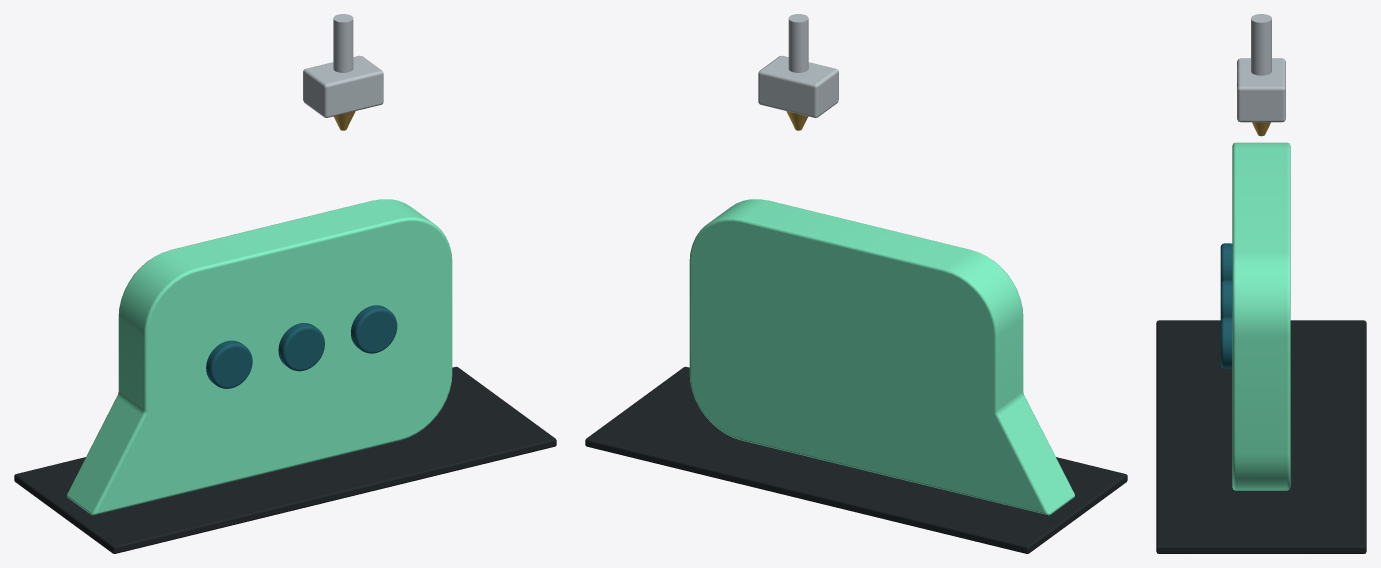
The model's file is contact.glb.
The picture shows the model from 3 angles, left to right: view 1: azimuth 30°, elevation 25°; view 2: azimuth 150°, elevation 25°; view 3: azimuth 270°, elevation 25°; orthographic projection. The views are drawn at different scales.
Parts seen in each view (by area): view 1: Bubble, Bed, Nozzle_block, Dot0, Dot2, Dot1, Nozzle_tube; view 2: Bubble, Bed, Nozzle_block, Nozzle_tube; view 3: Bed, Bubble, Nozzle_block, Nozzle_tube, Dot2, Dot1, Dot0.
Boxes of the visible parts, left/top/right/bottom form: Bubble: left=67, top=199, right=452, bottom=515; Bed: left=14, top=366, right=556, bottom=553; Nozzle_block: left=303, top=55, right=383, bottom=117; Dot0: left=206, top=340, right=252, bottom=388; Dot2: left=351, top=305, right=397, bottom=353; Dot1: left=278, top=323, right=324, bottom=371; Nozzle_tube: left=333, top=14, right=353, bottom=72; Bubble: left=689, top=199, right=1074, bottom=515; Bed: left=585, top=366, right=1127, bottom=553; Nozzle_block: left=758, top=55, right=838, bottom=117; Nozzle_tube: left=788, top=14, right=808, bottom=72; Bed: left=1156, top=320, right=1366, bottom=553; Bubble: left=1232, top=142, right=1290, bottom=490; Nozzle_block: left=1237, top=58, right=1285, bottom=122; Nozzle_tube: left=1251, top=14, right=1271, bottom=75; Dot2: left=1220, top=317, right=1232, bottom=368; Dot1: left=1220, top=280, right=1232, bottom=319; Dot0: left=1220, top=243, right=1232, bottom=282.
Bounding box in the file's own units: 4.6 × 4.28 × 1.8.
